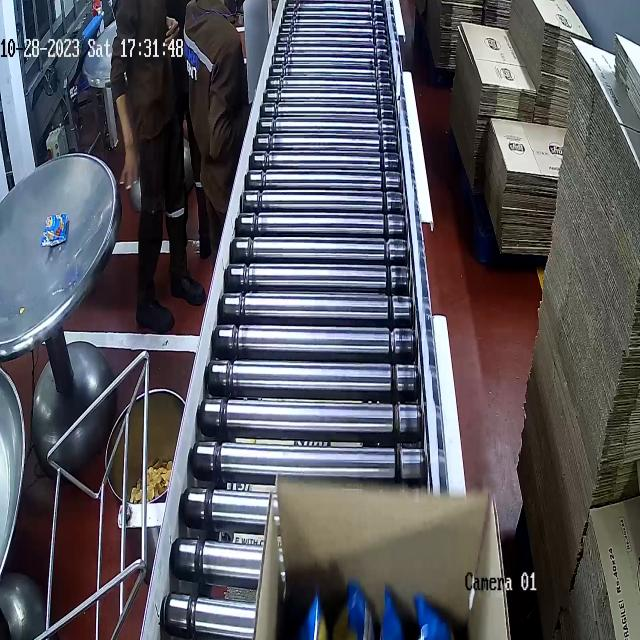PAPRIKA: (276, 571, 479, 640)
